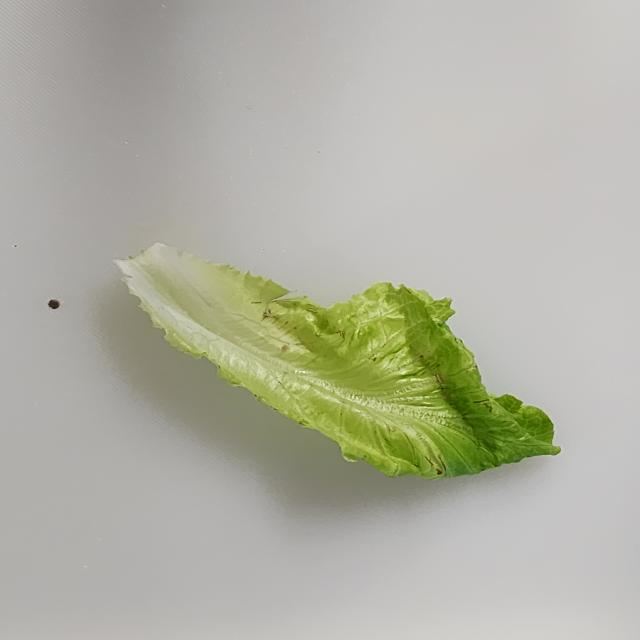lettuce: (113, 241, 562, 481)
